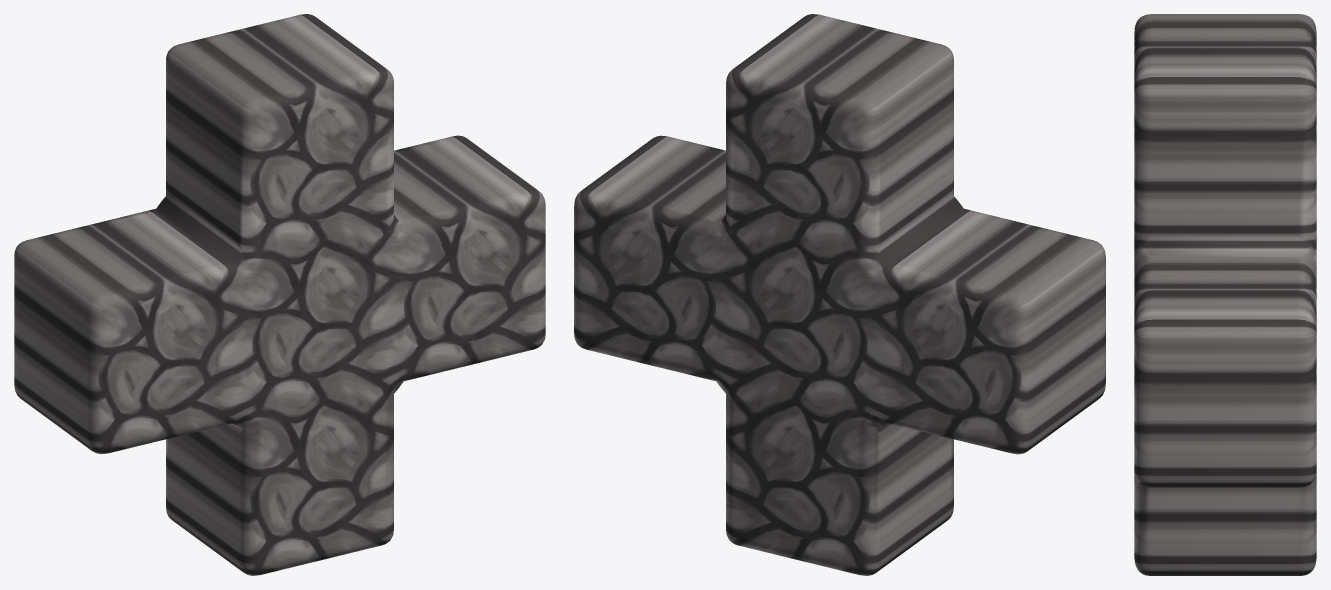
Rendered from cross_block.FBX.
3 renders of one model, left to right at view 1: azimuth 30°, elevation 25°; view 2: azimuth 150°, elevation 25°; view 3: azimuth 270°, elevation 25°, orthographic. The views are drawn at different scales.
Visible parts, largest first — view 1: Box001; view 2: Box001; view 3: Box001.
Part boxes in pixels (box(x1,y1,x2,y2)): Box001: box(14, 14, 545, 575); Box001: box(574, 14, 1105, 575); Box001: box(1134, 14, 1316, 575).
Bounding box in the file's own units: 3 × 3 × 1.
